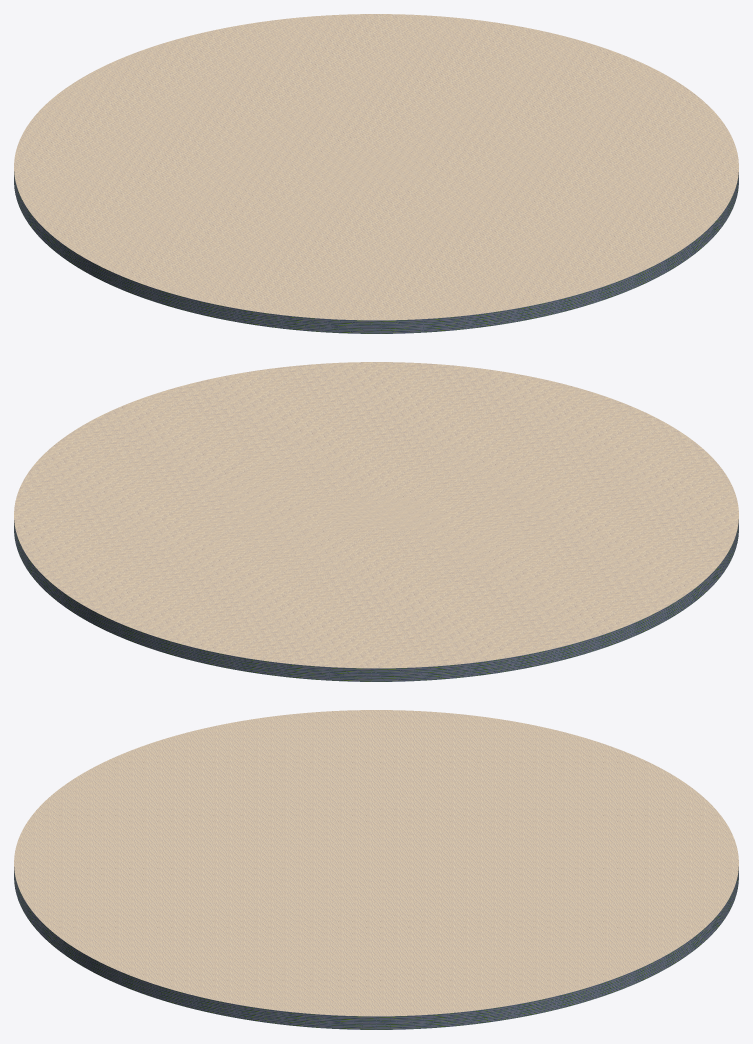
File: island.glb
3 renders of one model, top to bottom at view 1: azimuth 30°, elevation 25°; view 2: azimuth 150°, elevation 25°; view 3: azimuth 270°, elevation 25°, orthographic.
Visible parts, largest first — view 1: island-top, island-cliff; view 2: island-top, island-cliff; view 3: island-top, island-cliff.
Part boxes in pixels (x1,y1,x2,y2): island-top: (14,14,738,320); island-cliff: (14,171,738,333); island-top: (14,362,738,668); island-cliff: (14,519,738,681); island-top: (14,710,738,1016); island-cliff: (14,867,738,1029).
Bounding box in the file's own units: 290 × 6 × 290.
2 materials, 2 textured.
